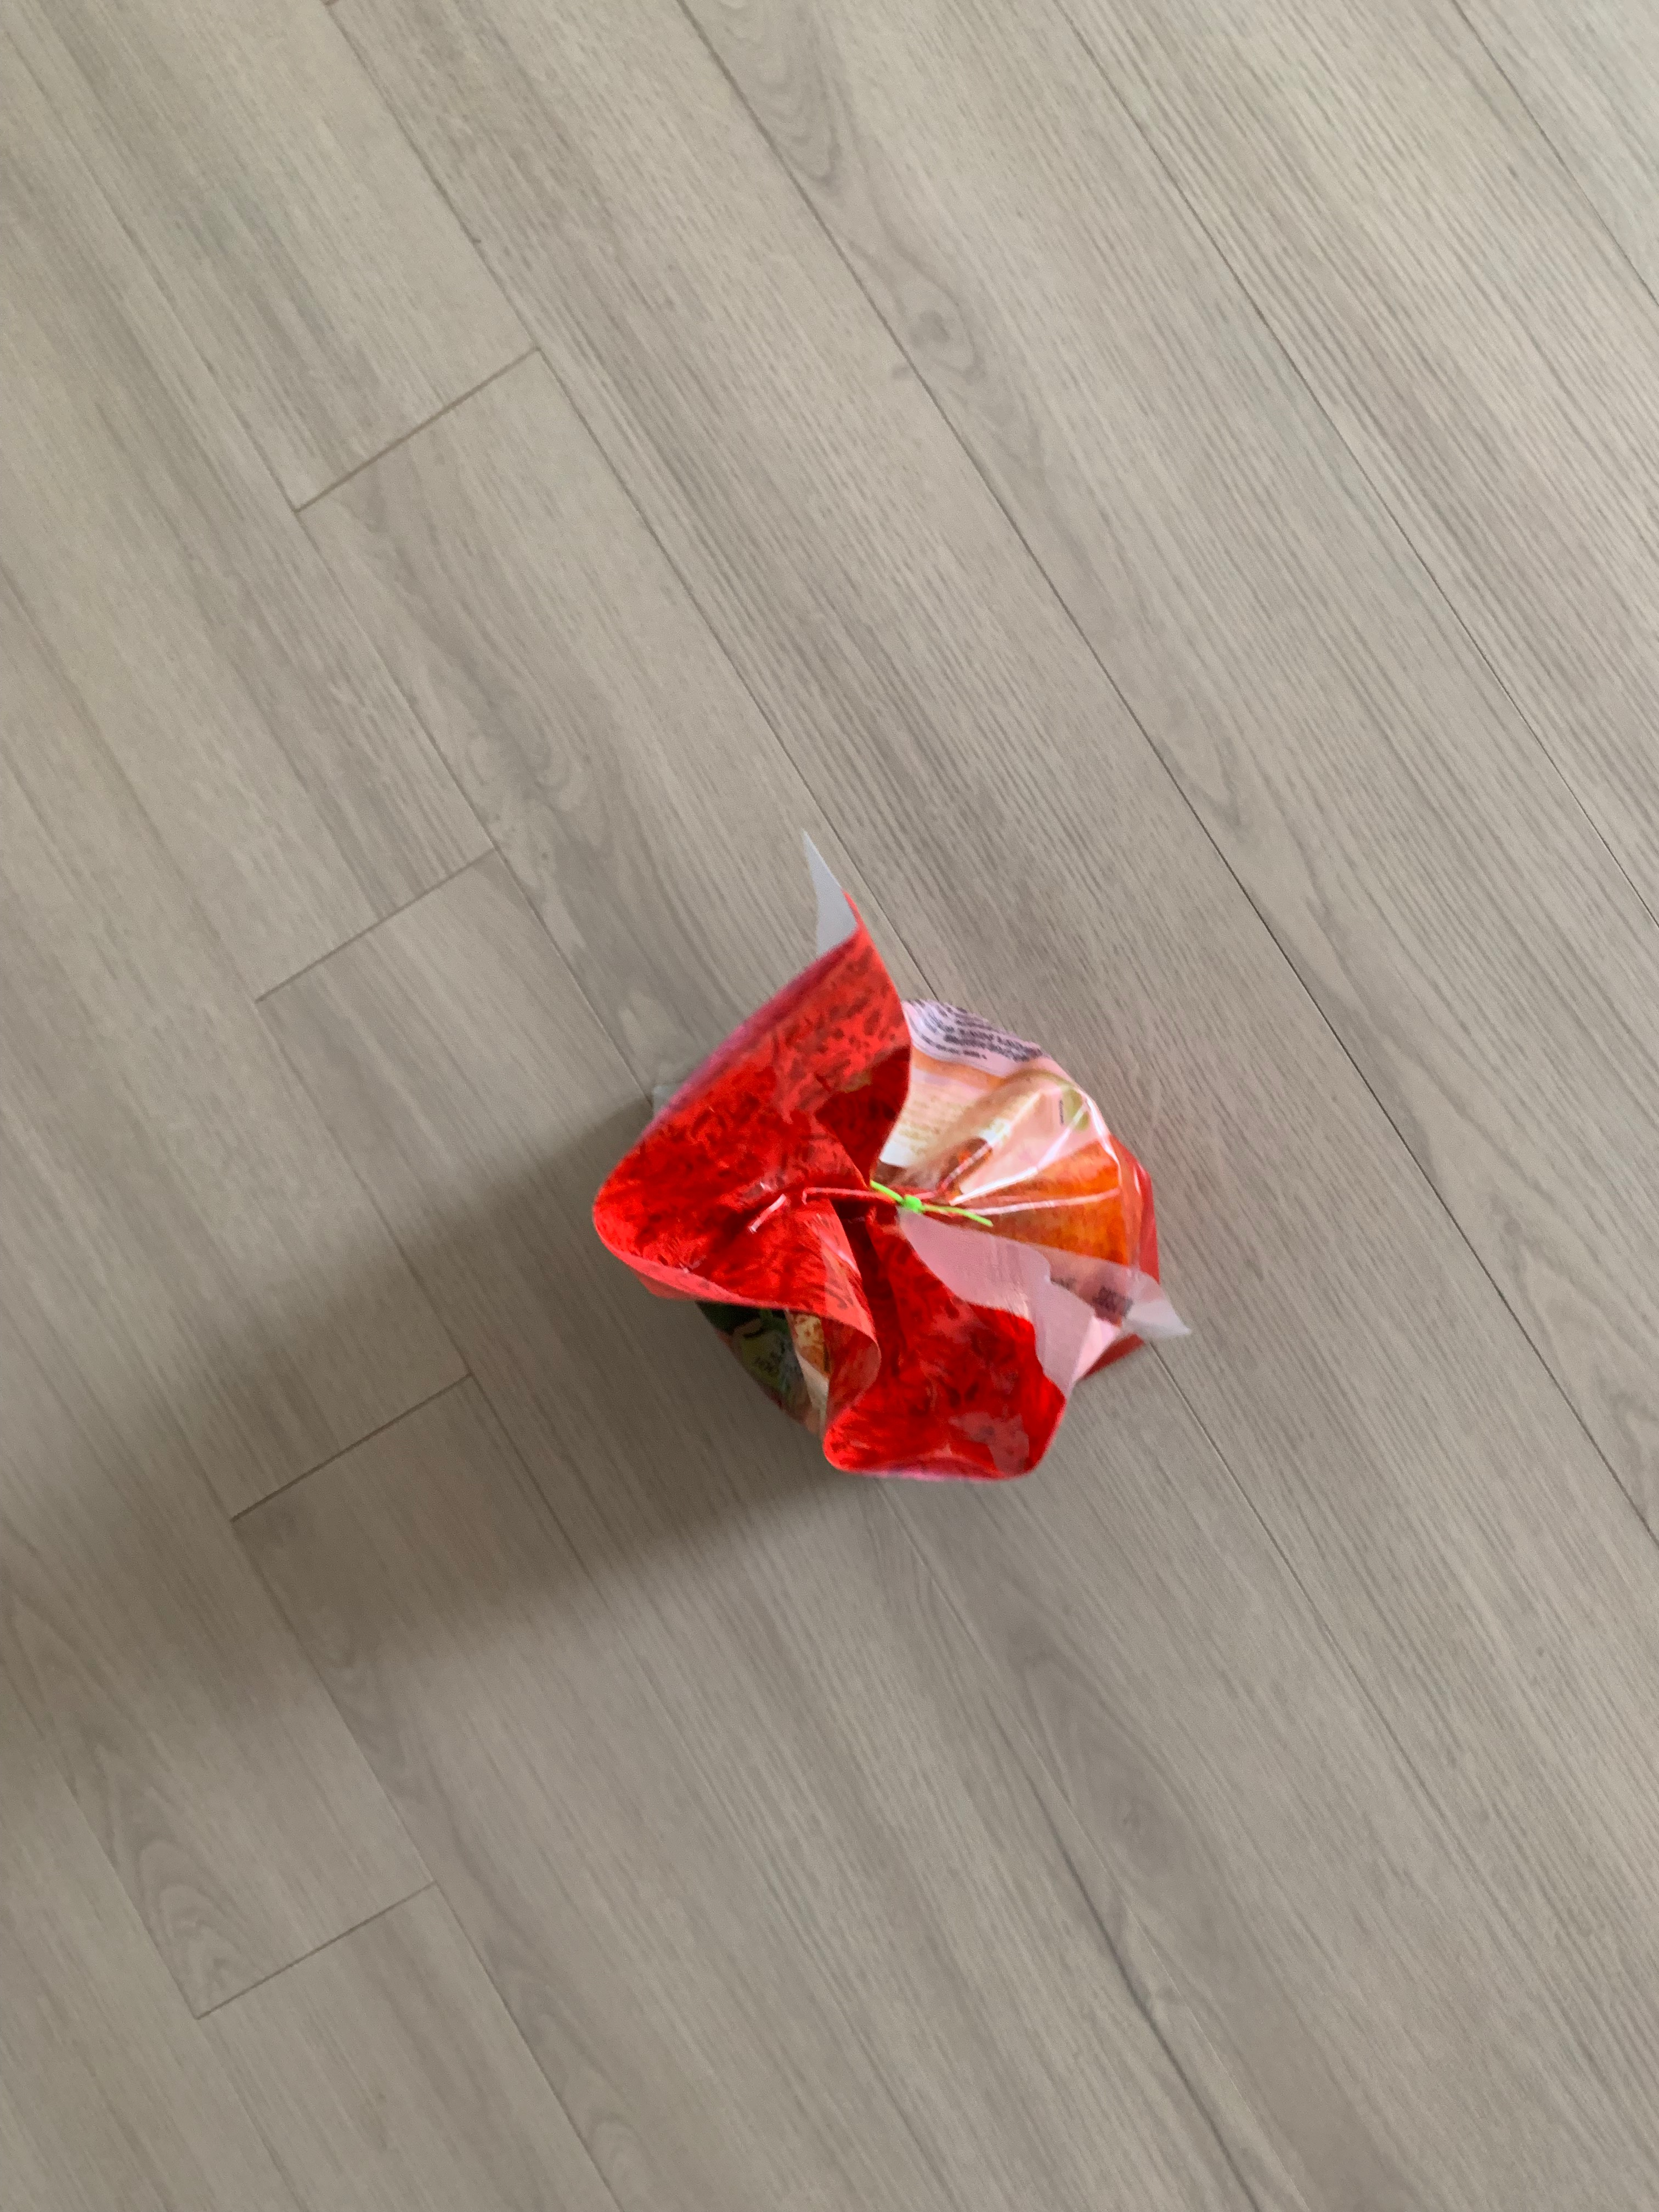kimchi: (587, 935, 1161, 1484)
